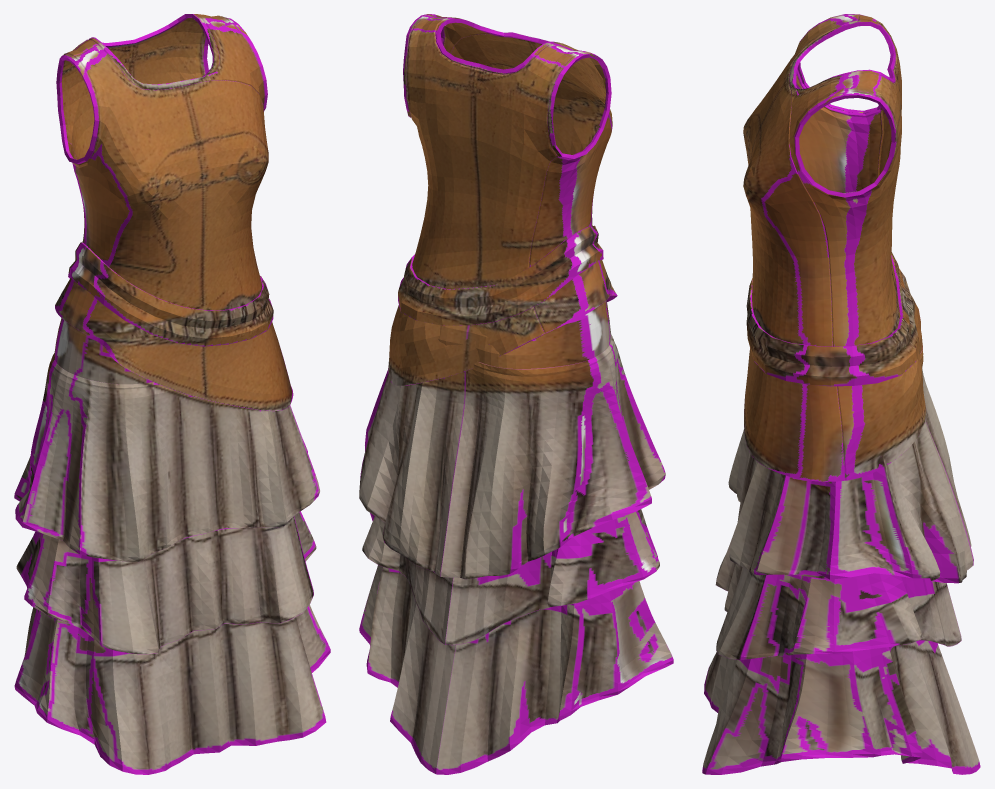
The picture shows the model from 3 angles, left to right: view 1: azimuth 30°, elevation 25°; view 2: azimuth 150°, elevation 25°; view 3: azimuth 270°, elevation 25°; orthographic projection. The views are drawn at different scales.
Bounding box in the file's own units: 0.4736 × 1.11 × 0.3891.
Materials: 1 (1 with a texture image).
